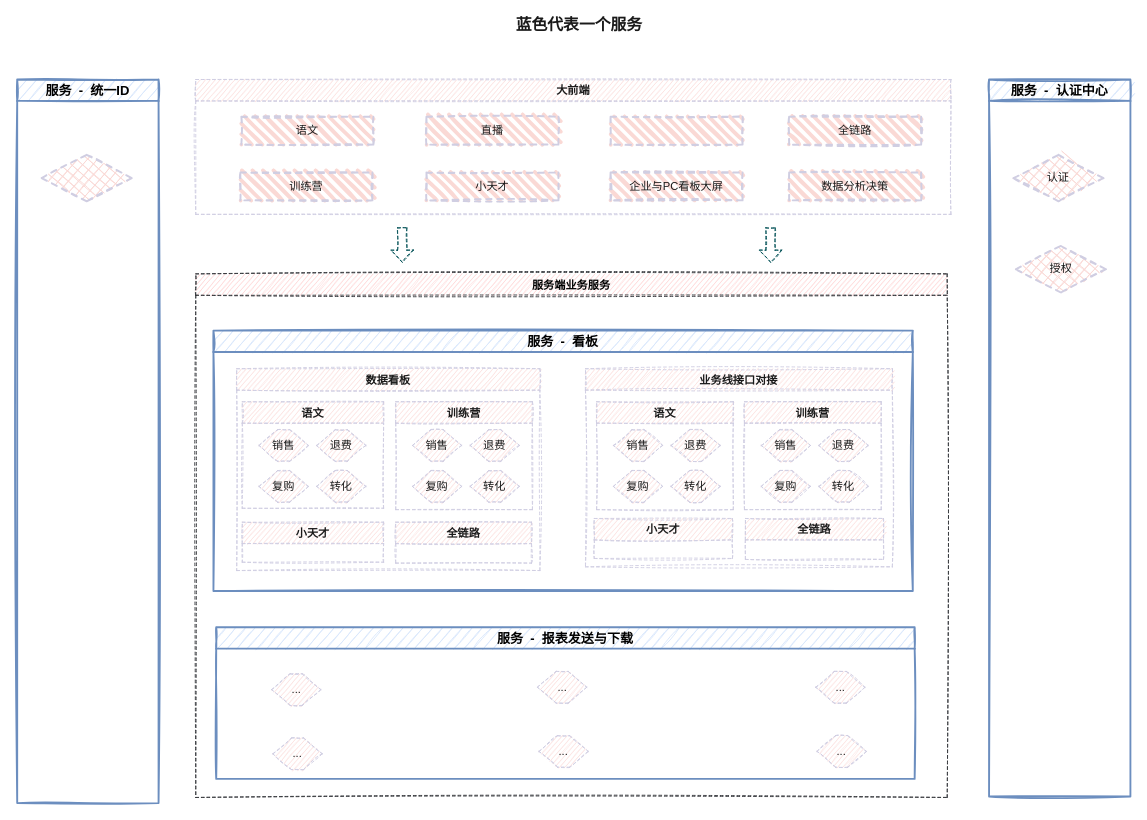
The diagram is 1147 pixels wide and 820 high, and some of its shapes have lost their labels. Each missing label, with the centre of its shape:
"ID生成" goes at point 86,177.
"商城" goes at point 676,130.
